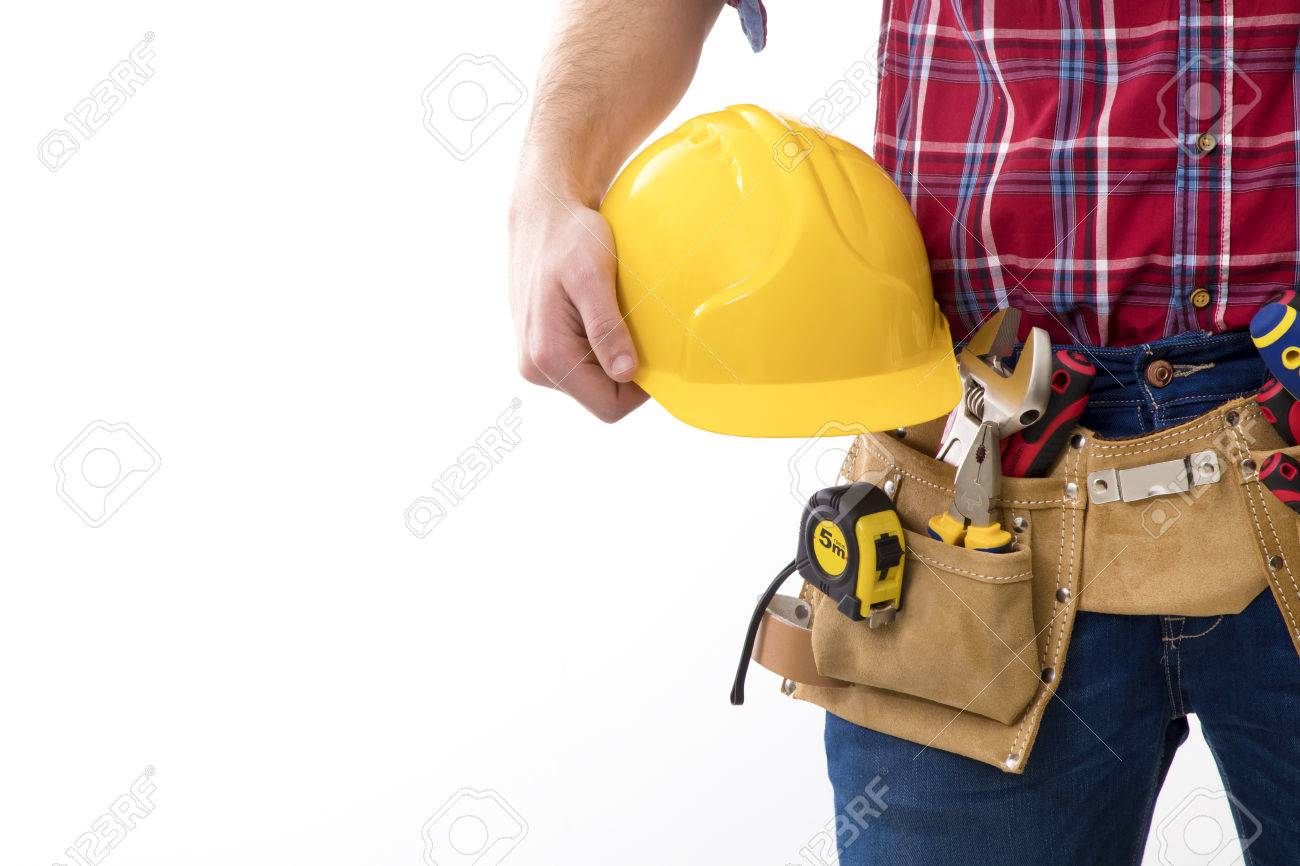casco: (595, 103, 964, 441)
